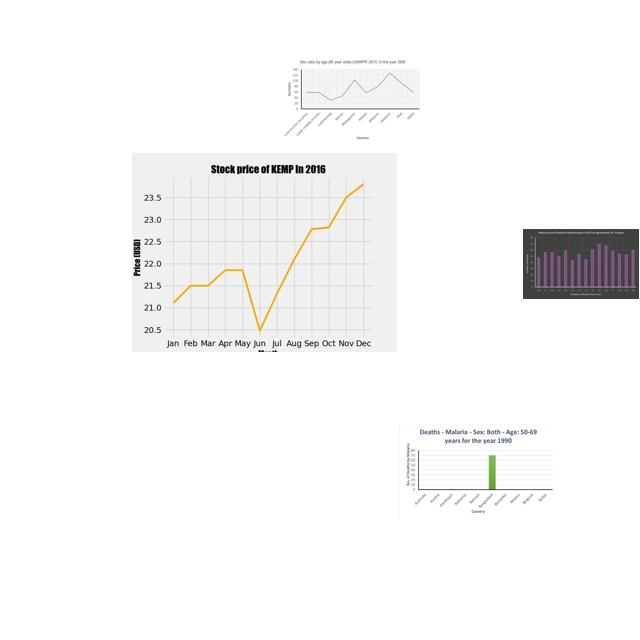Graph: (132, 153, 397, 352), (399, 424, 556, 520), (283, 58, 422, 140), (523, 229, 639, 299)
